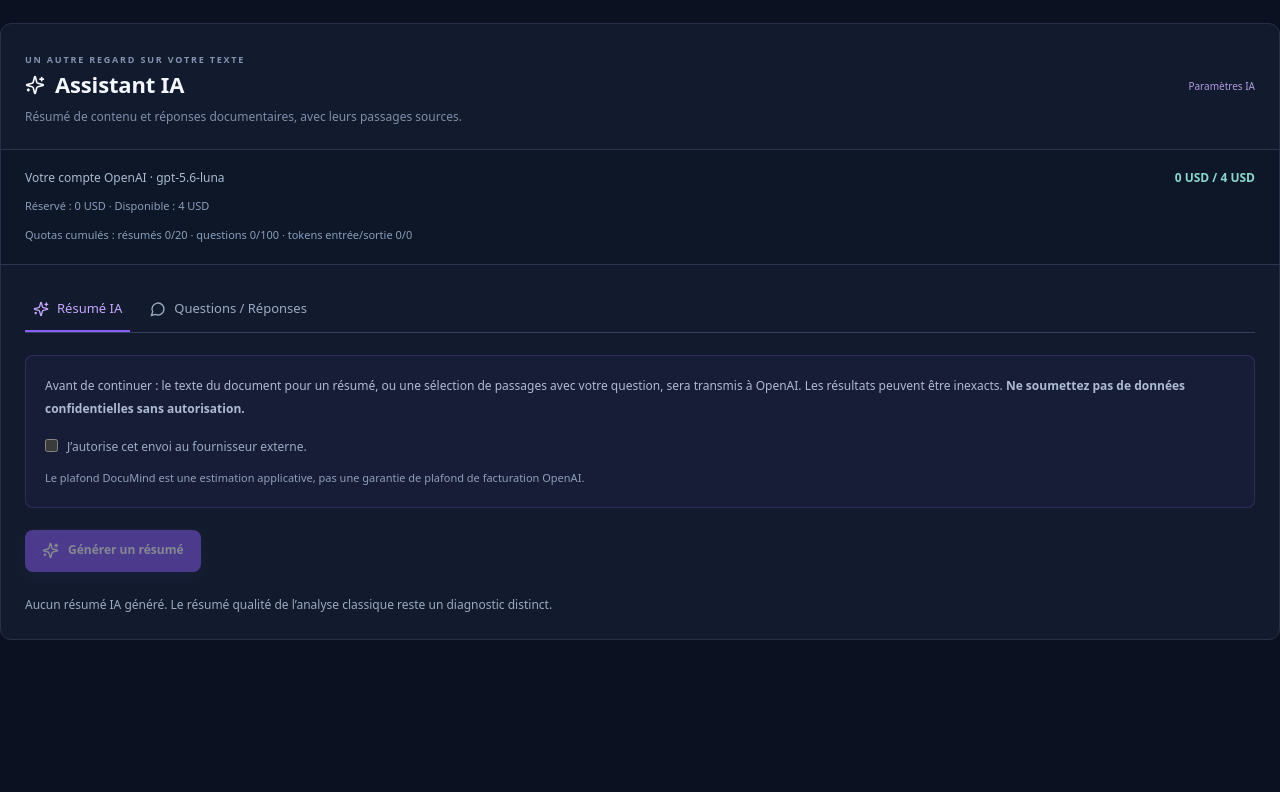
Test: demande le consentement puis génère un résumé sourcé
Expected: the button "Générer un résumé" is disabled, [25,530,200,572]
Click the checkbox labelled "J’autorise cet envoi au fournisseur externe.": click(52, 445) [45,439,58,452]
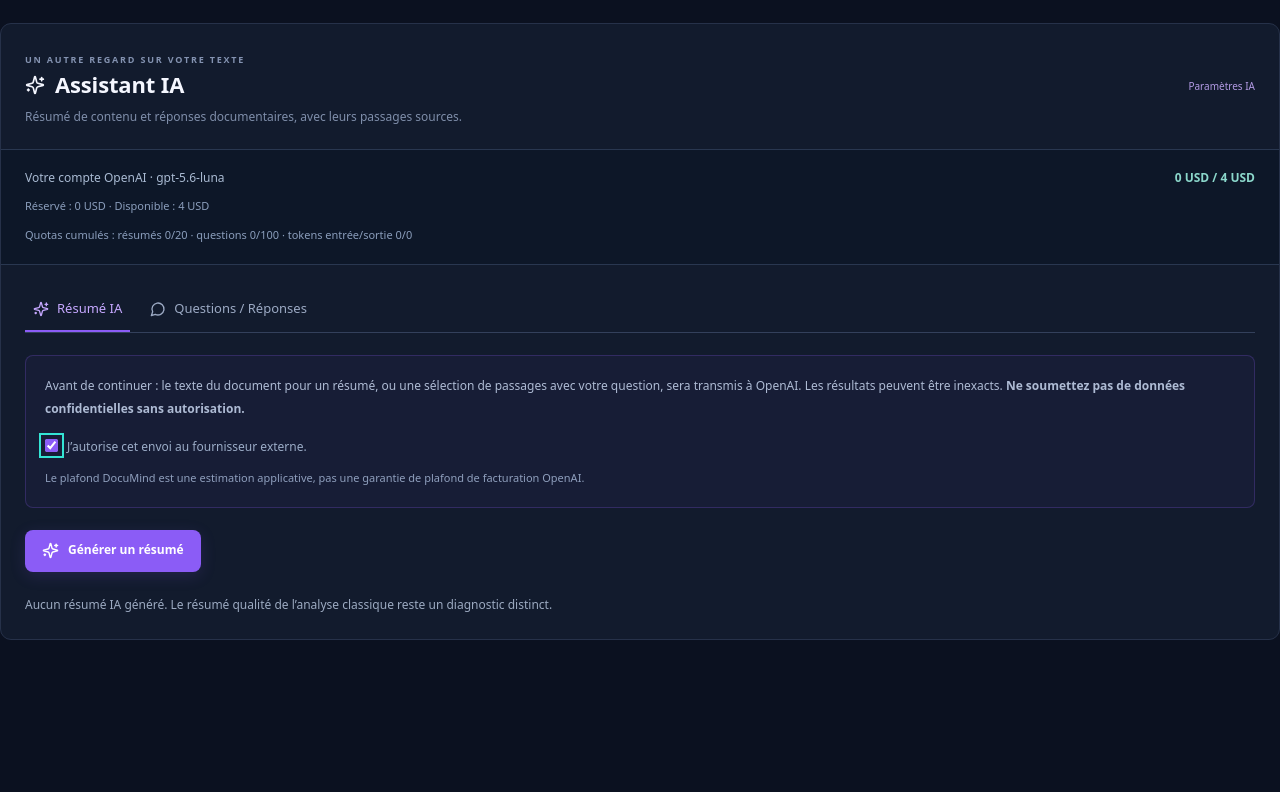
Click the button "Générer un résumé": click(113, 551) [25,530,200,572]
(page scrolled)
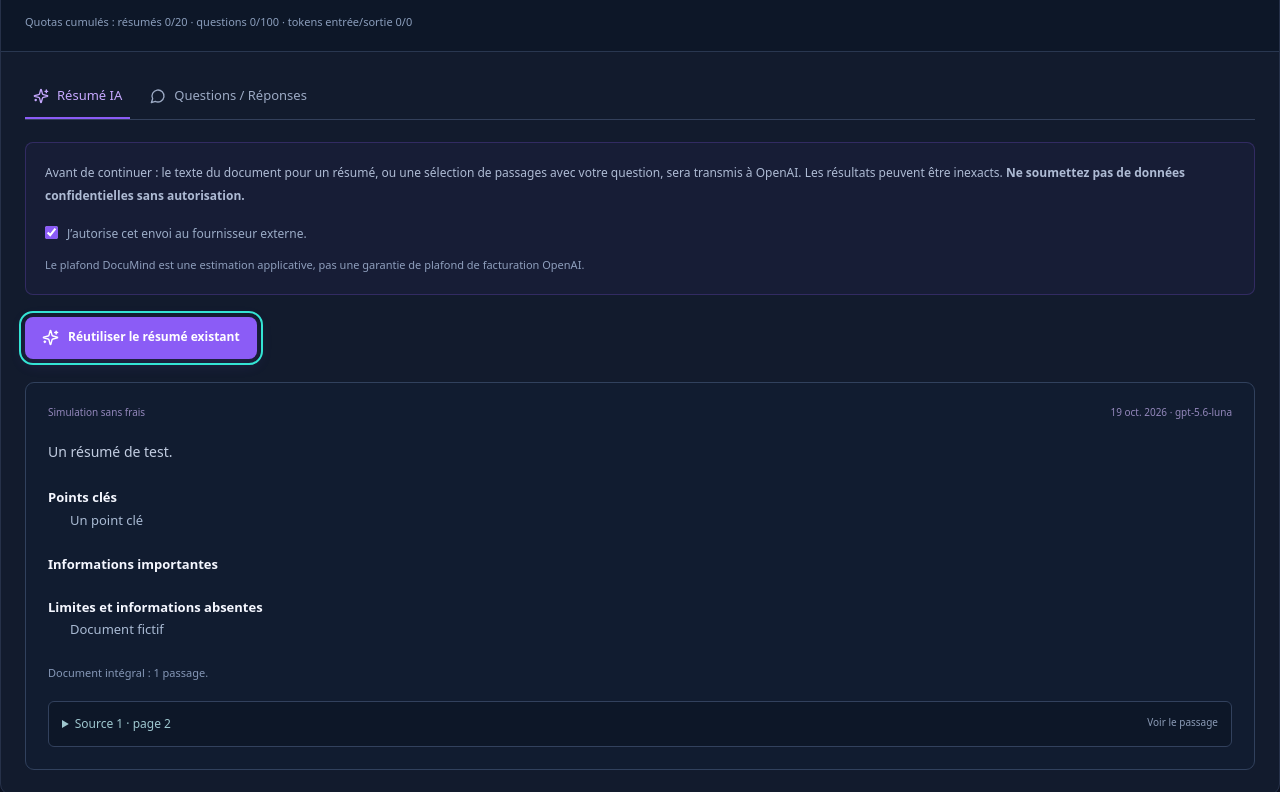
Now the text "Un résumé de test." is shown, box [48,442,172,461]
Click the heading "Source 1 · page 2 Voir le passage": click(96, 723) [62,715,1218,733]
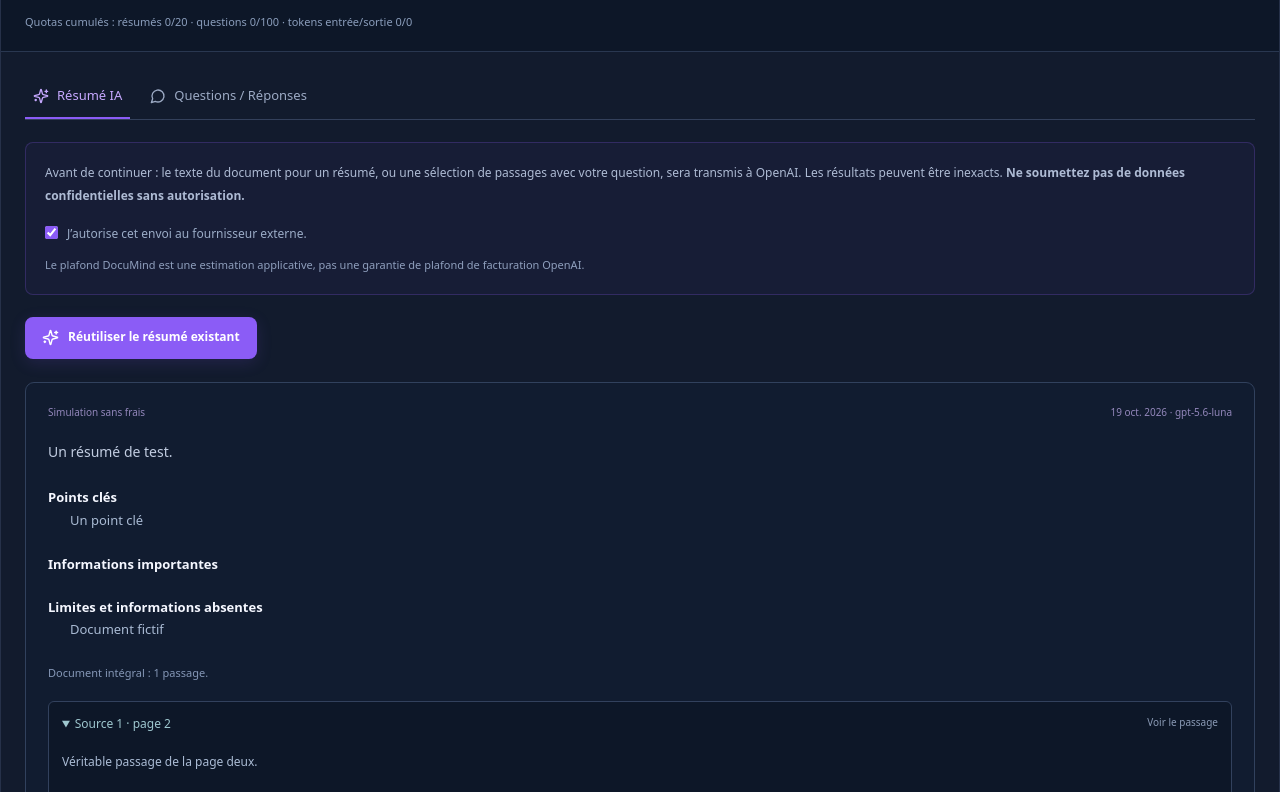
Now the text "Véritable passage de la page deux." is shown, box [62,753,258,770]
